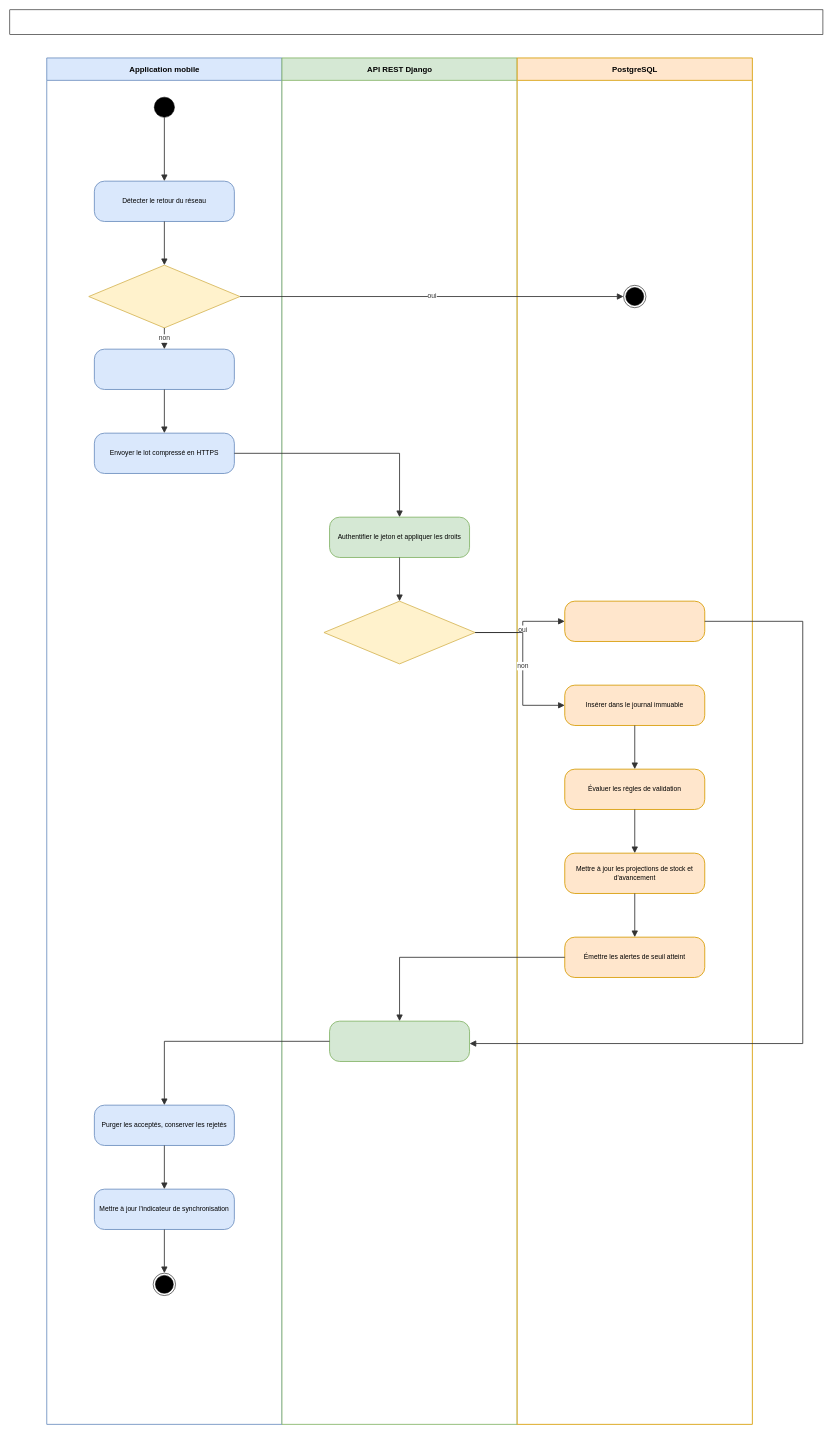
Image size: 833x1435. Some labels were removed from this diagram. The centre of each missing label's shape, as x and y in pixels:
"Diagramme d'activité 2 — Synchronisation de la file d'envoi au retour du réseau" belongs at [416,21].
"File d'envoi vide ?" belongs at [164,296].
"Identifiant déjà reçu ?" belongs at [399,632].
"Lire un lot de N événements" belongs at [164,369].
"Répondre « déjà reçu » sans rien créer" belongs at [634,621].
"Répondre événement par événement" belongs at [399,1041].
